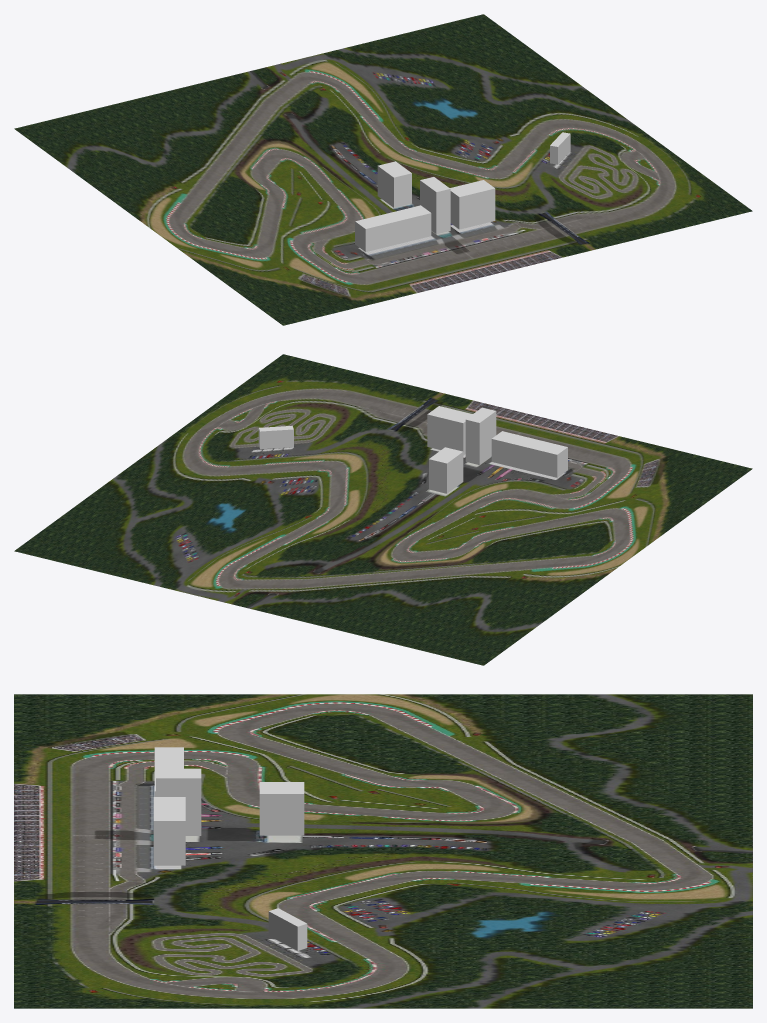
File: miti.FBX
3 renders of one model, top to bottom at view 1: azimuth 30°, elevation 25°; view 2: azimuth 150°, elevation 25°; view 3: azimuth 270°, elevation 25°, orthographic. The views are drawn at different scales.
Parts seen in each view (by area): view 1: Box001, Box002, Box003, Box004, Box006; view 2: Box001, Box002, Box003, Box006, Box004, Box005; view 3: Box001, Box004, Box003, Box006, Box005, Box002.
Boxes of the visible parts, x1,y1,x2,y2 form: Box001: (14, 14, 752, 325); Box002: (355, 205, 431, 251); Box003: (450, 180, 495, 229); Box004: (377, 161, 411, 207); Box006: (420, 177, 450, 234); Box001: (14, 354, 752, 665); Box002: (491, 431, 567, 477); Box003: (427, 406, 472, 455); Box006: (465, 407, 496, 464); Box004: (429, 447, 463, 493); Box005: (258, 425, 293, 449); Box001: (14, 694, 752, 1008); Box004: (259, 782, 304, 835); Box003: (153, 797, 185, 865); Box006: (156, 768, 201, 835); Box005: (268, 908, 307, 950); Box002: (154, 747, 183, 796).
Bounding box in the file's own units: 140 × 13.02 × 139.
1 material, 1 textured.
